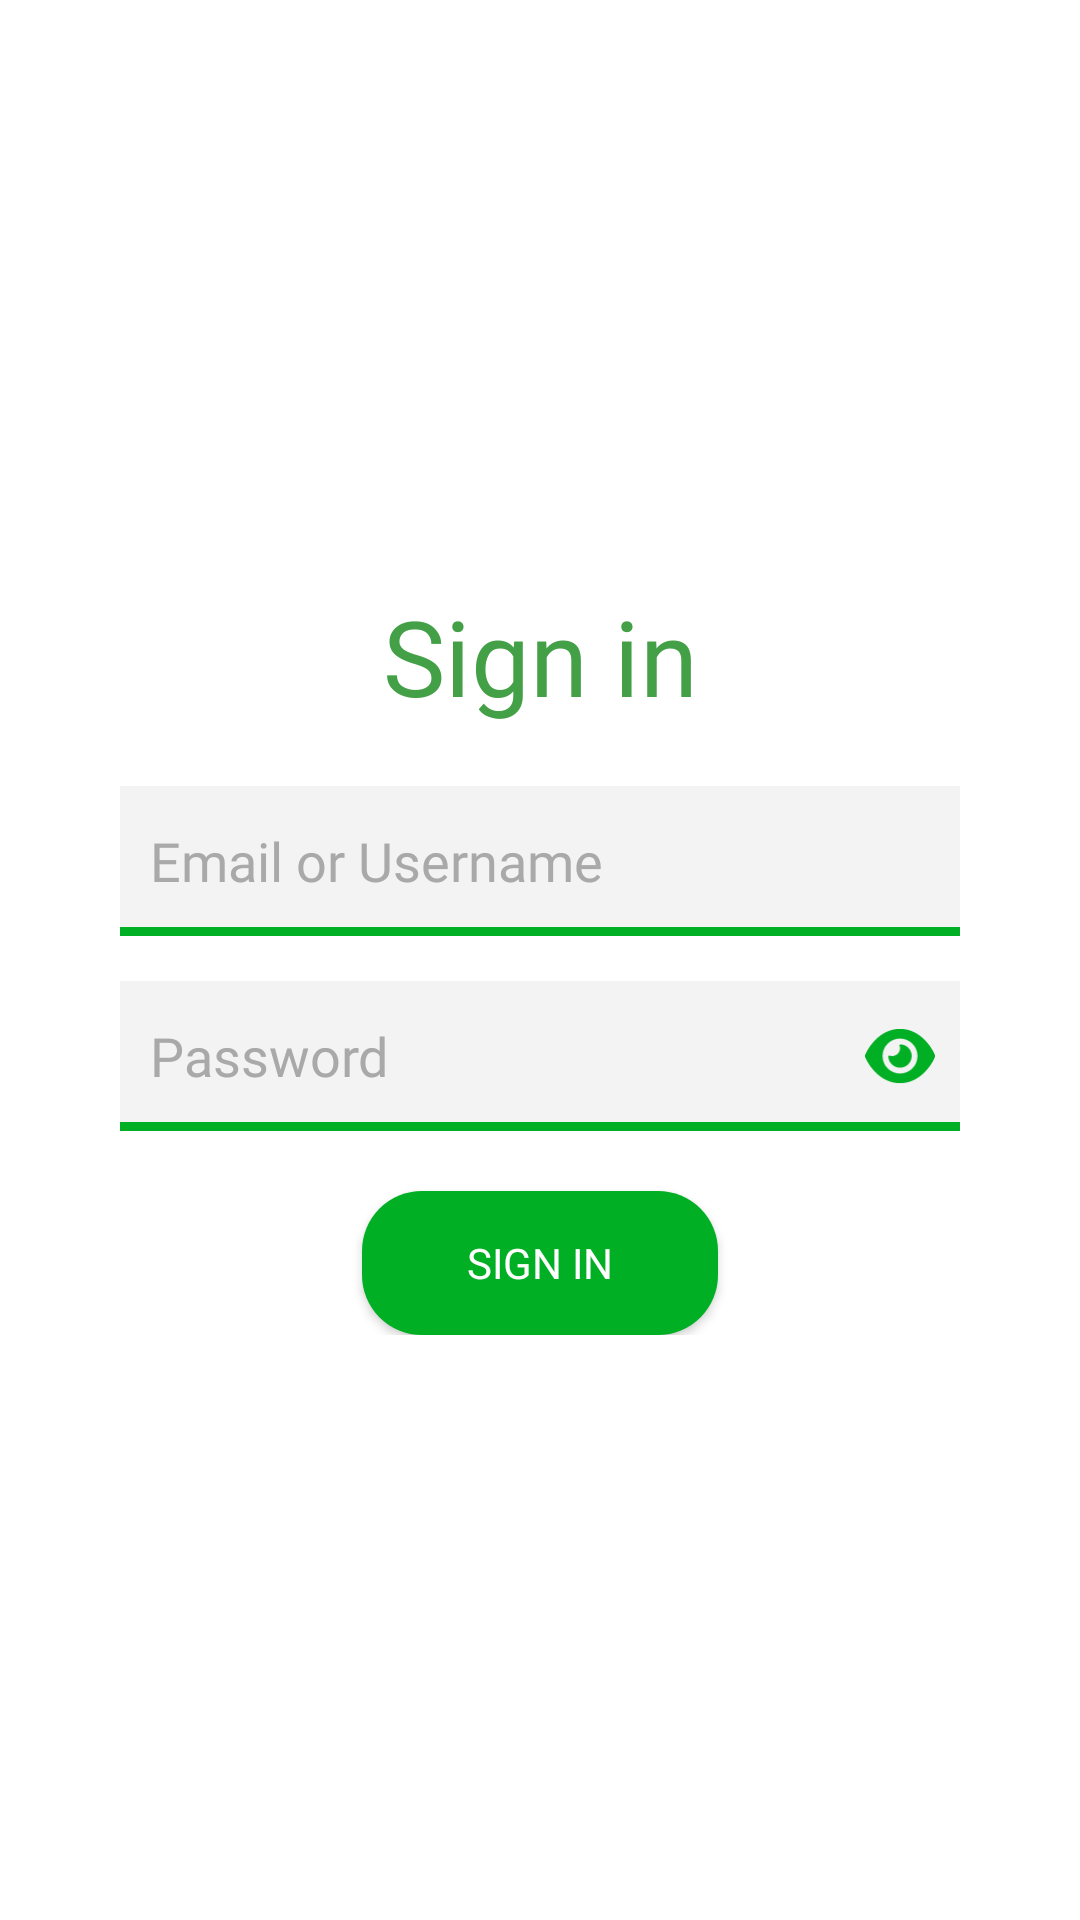

Locate icon controls on the screen. Image size 1080×1920, boxes as (x1, y1, x2, y2).
eye: (865, 1029, 935, 1083)
